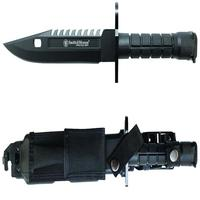knife: (3, 2, 197, 83), (4, 112, 200, 184)
